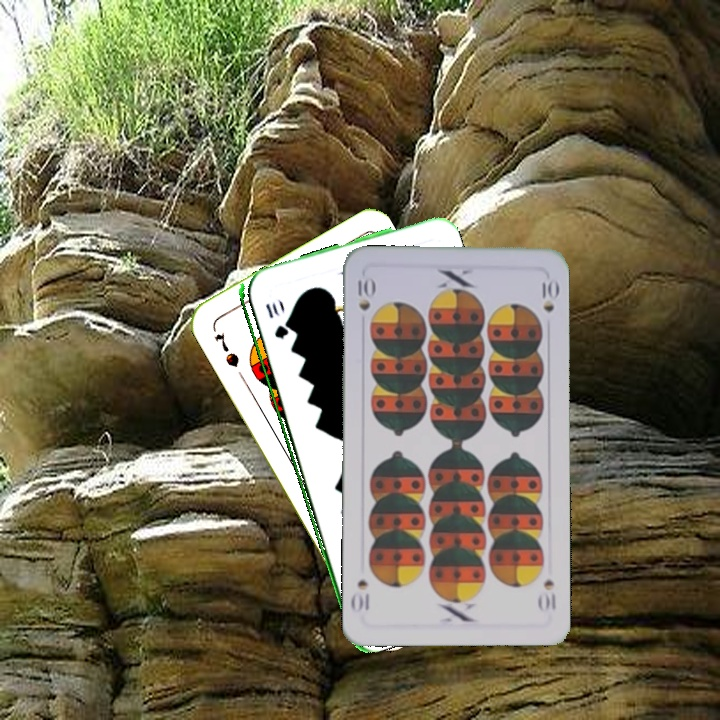G10: (261, 299, 288, 342)
S10: (535, 575, 559, 613), (354, 276, 375, 313)
S7: (210, 329, 242, 370)
